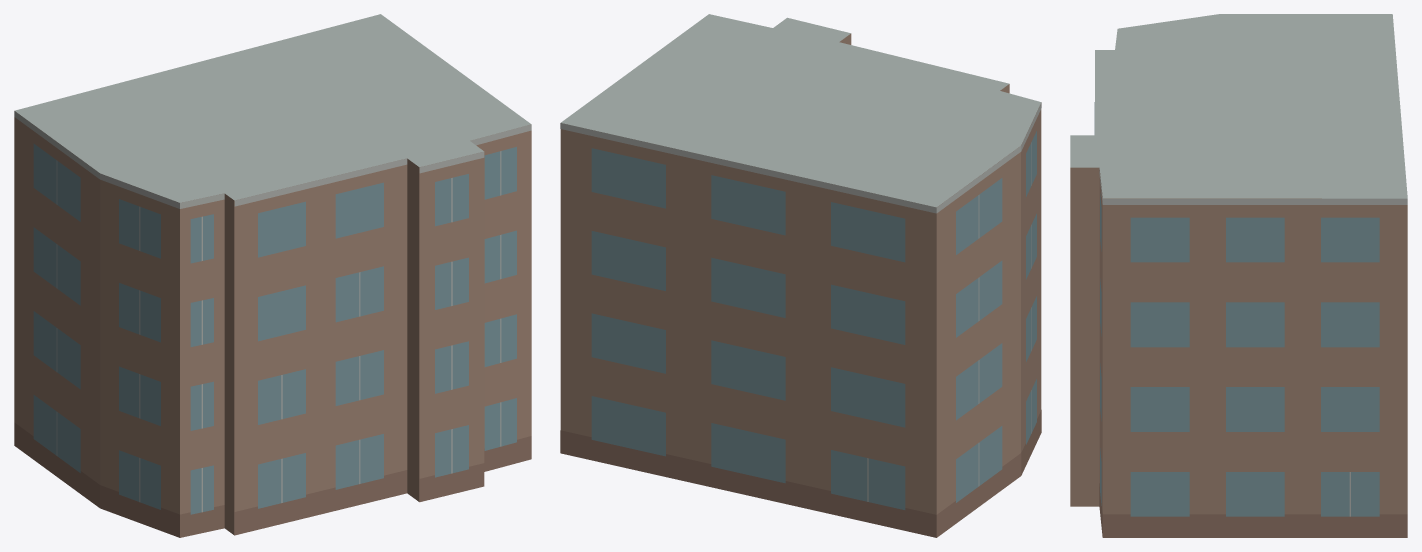
File: survey-upis-32482019.glb
3 views of the same model, side by side, from view 1: azimuth 30°, elevation 25°; view 2: azimuth 150°, elevation 25°; view 3: azimuth 270°, elevation 25° (orthographic). The views are drawn at different scales.
Visible parts, largest first — view 1: survey-upis-32482019.tmp; view 2: survey-upis-32482019.tmp; view 3: survey-upis-32482019.tmp.
Part boxes in pixels (bbox=[...]): survey-upis-32482019.tmp: bbox=[14, 14, 531, 537]; survey-upis-32482019.tmp: bbox=[560, 14, 1041, 537]; survey-upis-32482019.tmp: bbox=[1070, 14, 1407, 537].
Size of the model in its own units: 15.38 by 13.15 by 11.88.
